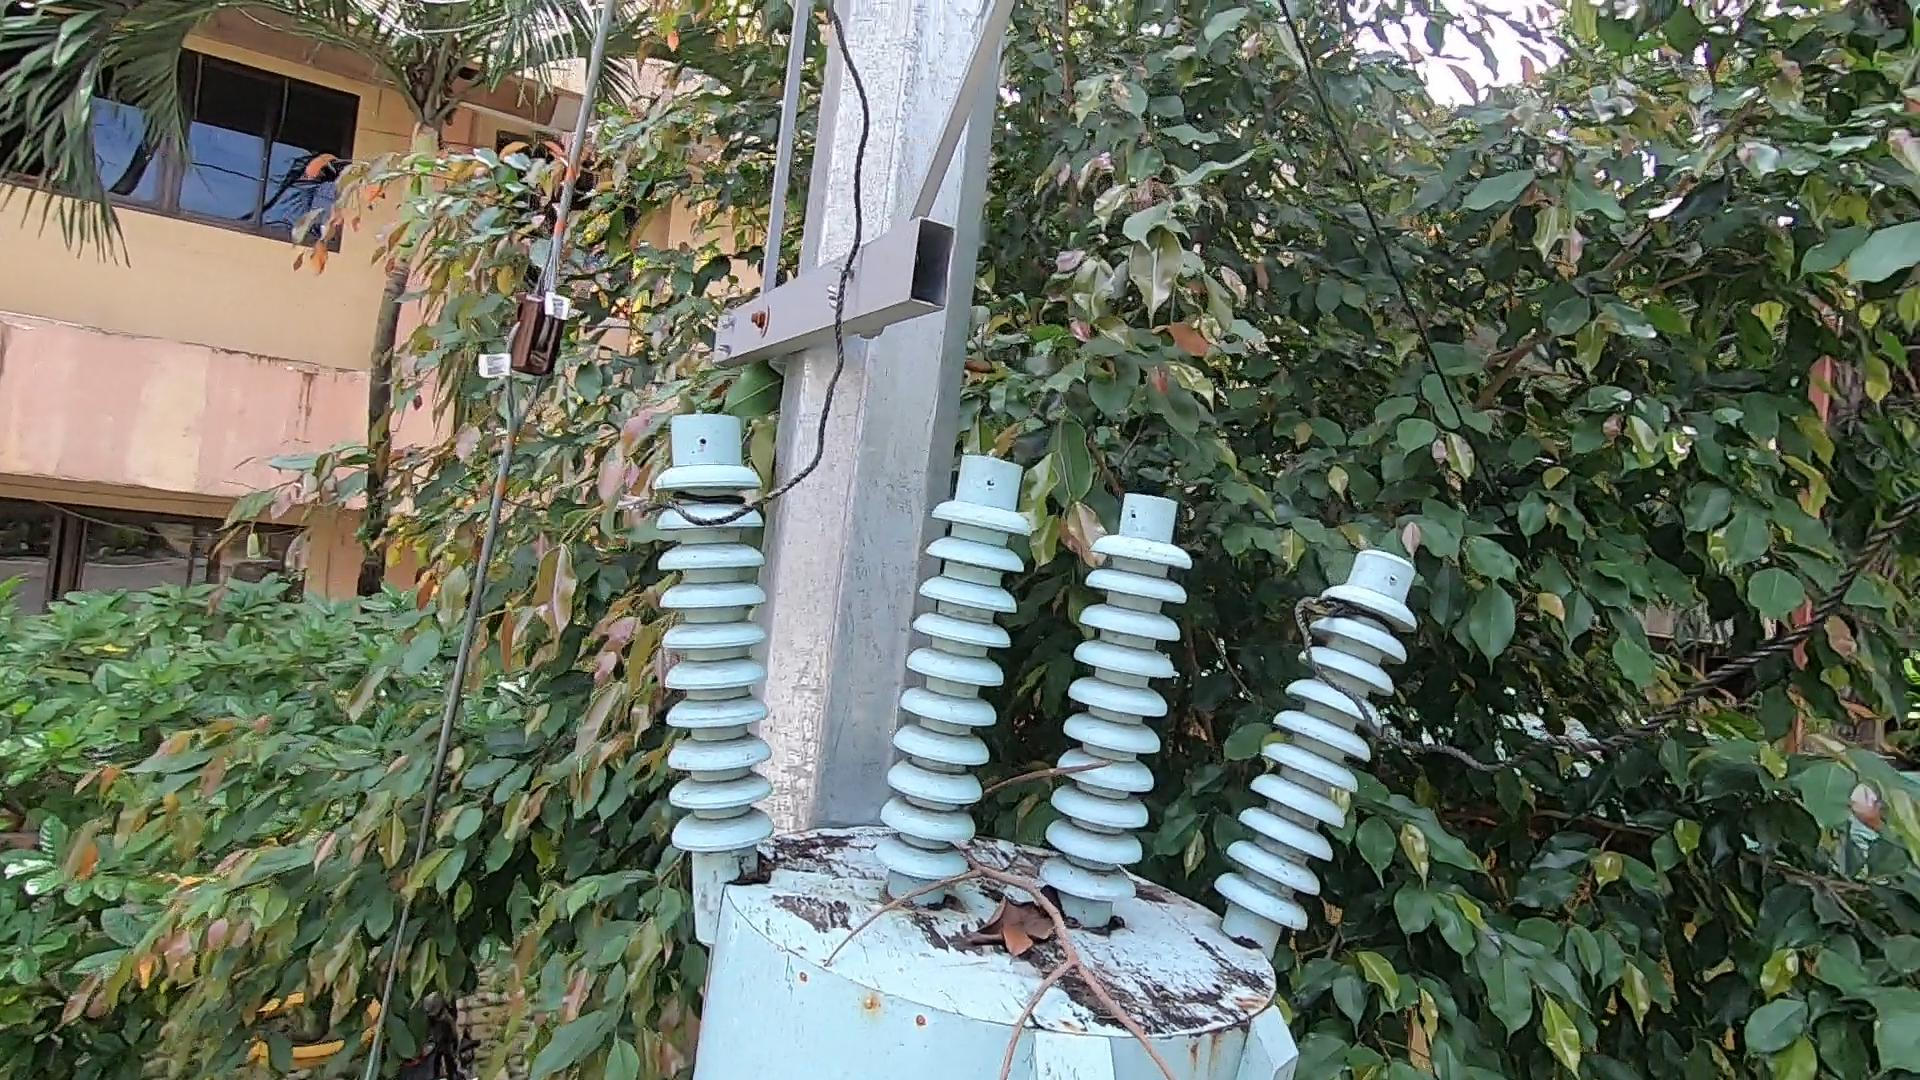leaf: (961, 884, 1081, 967), (717, 829, 796, 907)
tree branch: (785, 742, 1178, 1080)
